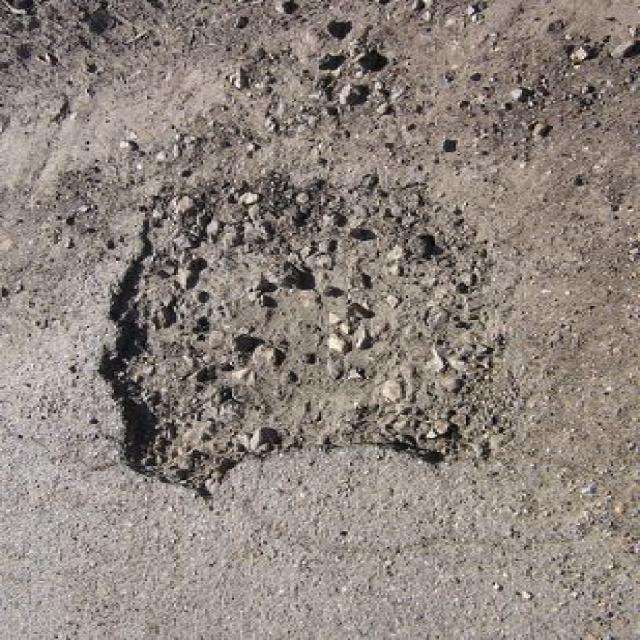Pothole: (88, 164, 517, 494)
